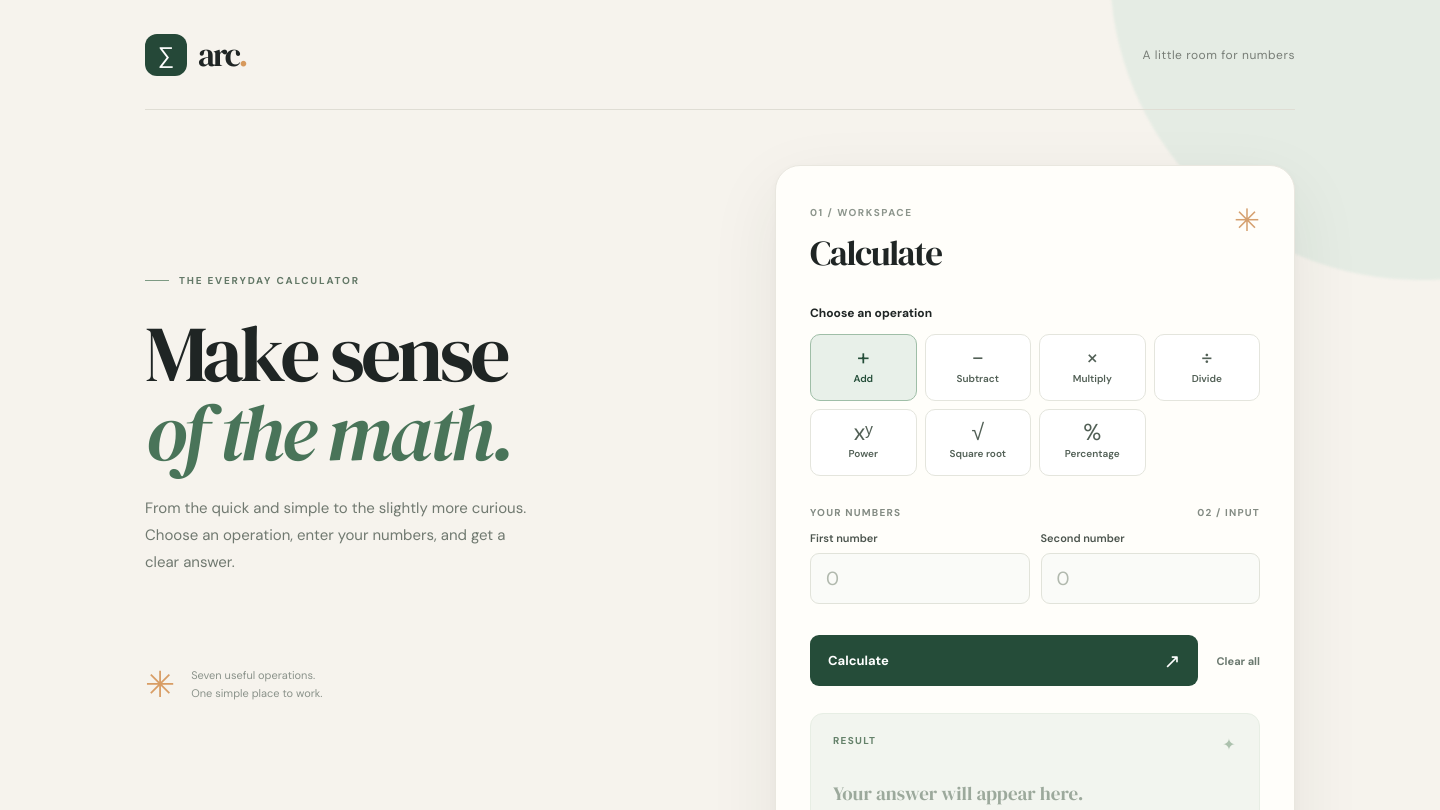
Test: calculator UI › handles a unary operation and displays an API error
The width and height of the screenshot is (1440, 810).
Click the button "√ Square root" at (978, 442), box [924,409,1031,476]
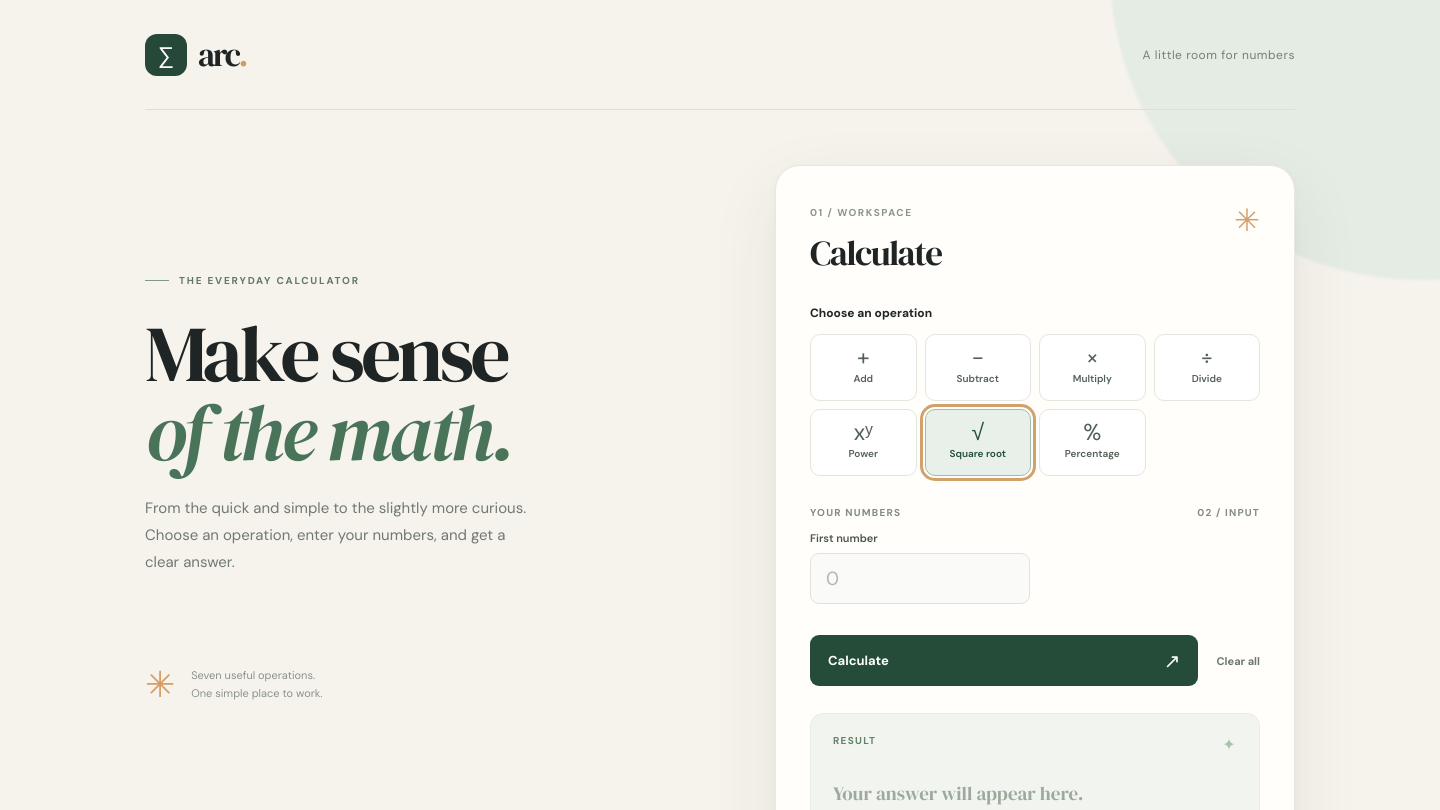
Expected: the text labelled "Second number" is gone
Type "-4" into the number field labelled "First number" at (920, 578), box [810,553,1030,604]
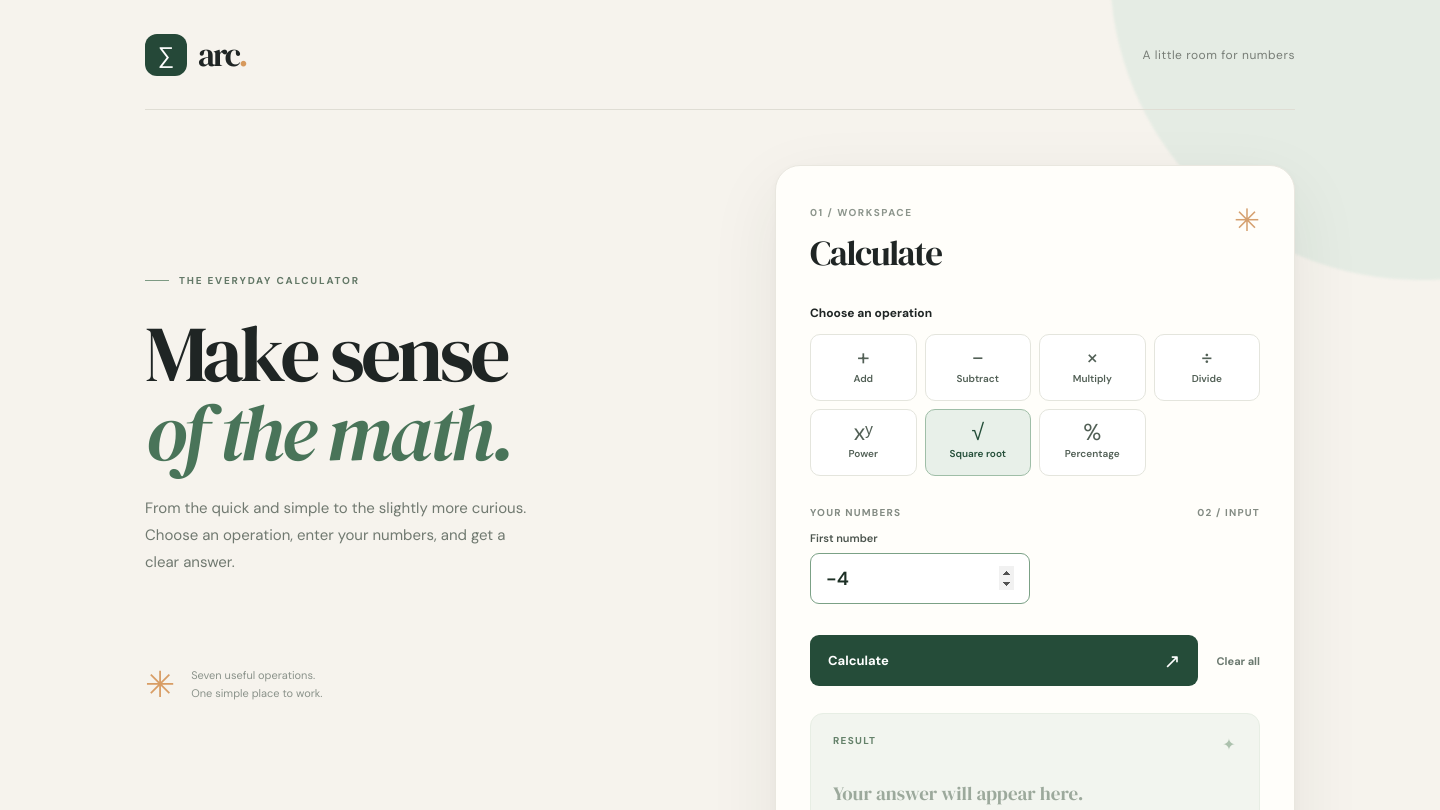
Click the button "Calculate ↗" at (858, 660), box [810,635,1198,686]
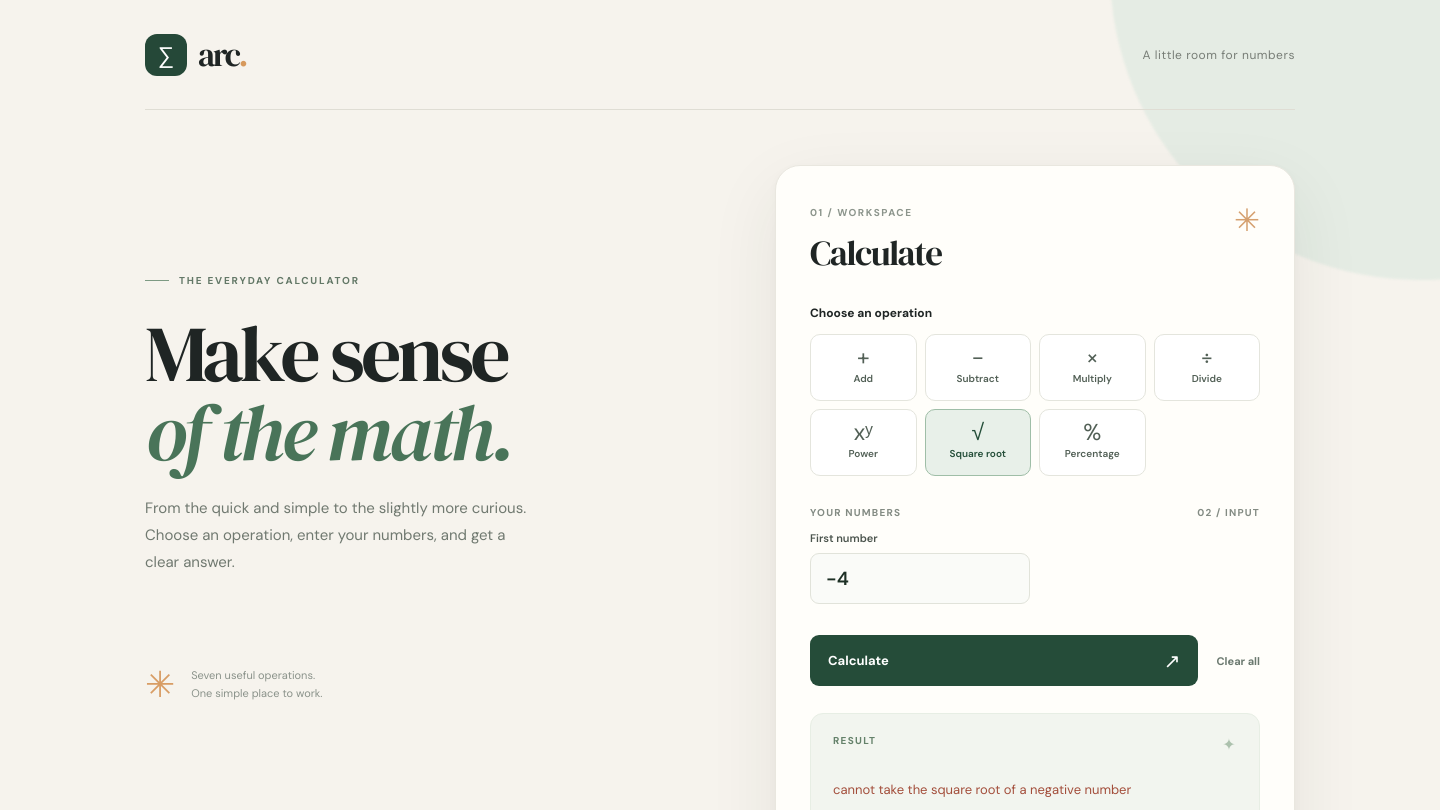
Expected: the message shows "cannot take the square root", [833,781,1131,798]
